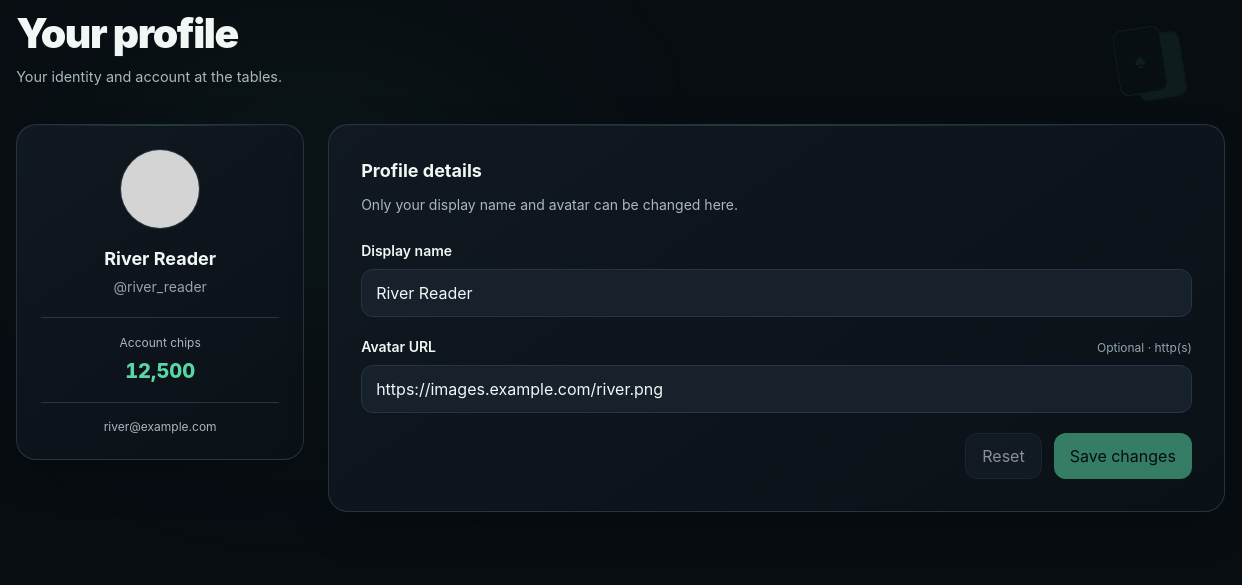
Scenario: ProfilePage › rejects invalid edits before sending a PATCH request
This screenshot has width=1242, height=585.
Replace the text in the field labelled "Display name" with "x" at (777, 294), box [361, 270, 1192, 318]
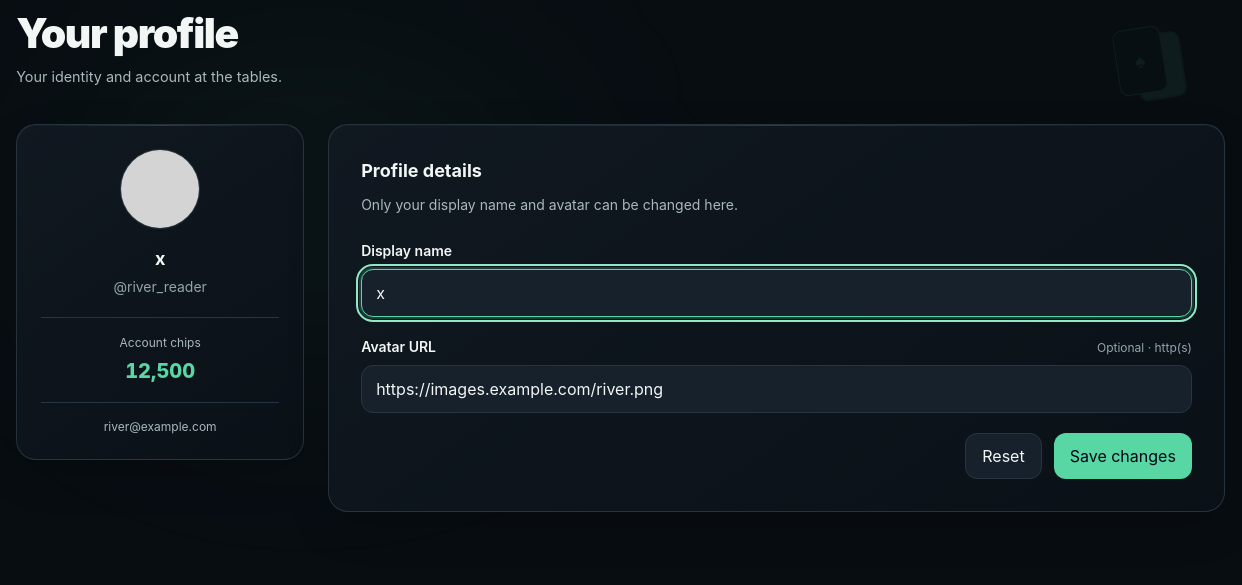
Clear the field labelled "Avatar URL" at (777, 390), box [361, 366, 1192, 414]
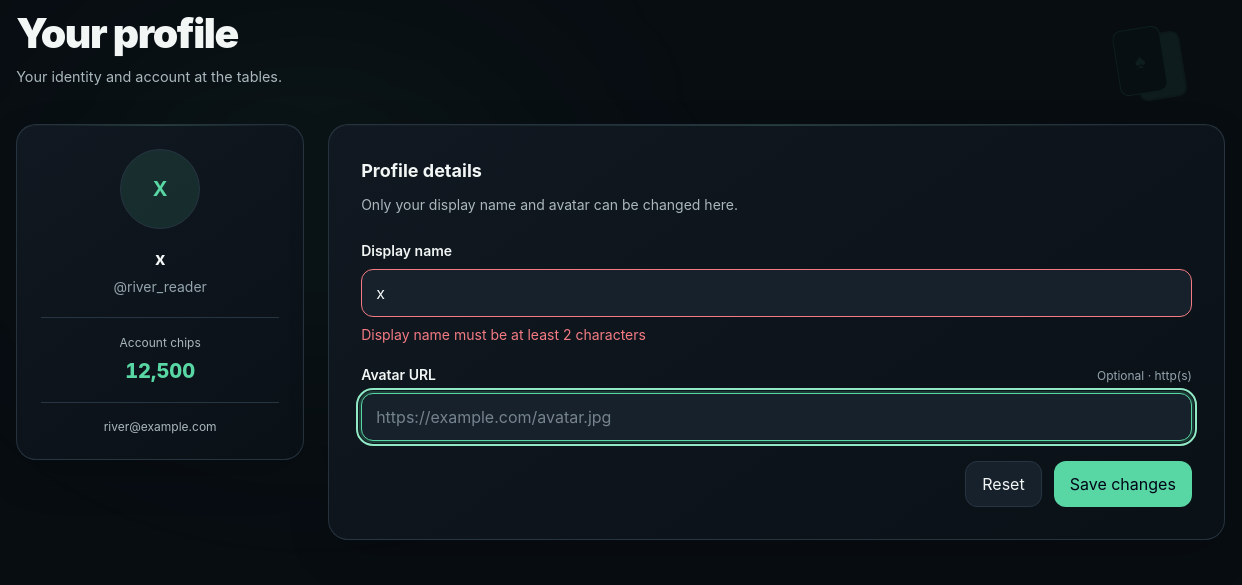
Type "javascript:alert(1)" into the field labelled "Avatar URL" at (777, 418), box [361, 394, 1192, 442]
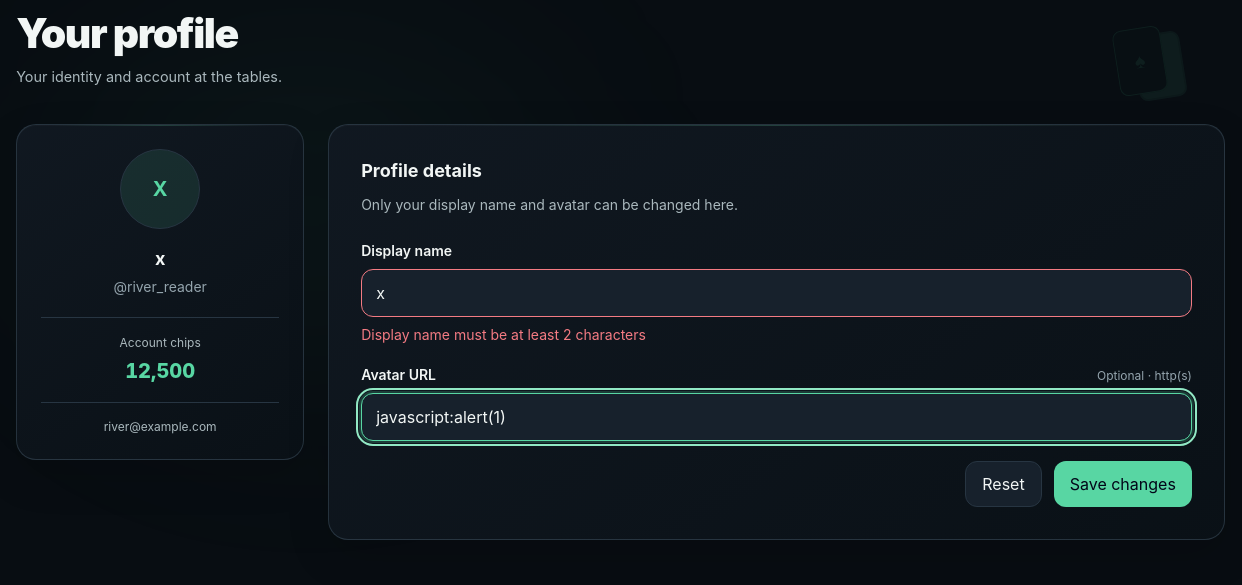
Click the button "Save changes" at (1123, 484), box [1054, 462, 1192, 508]
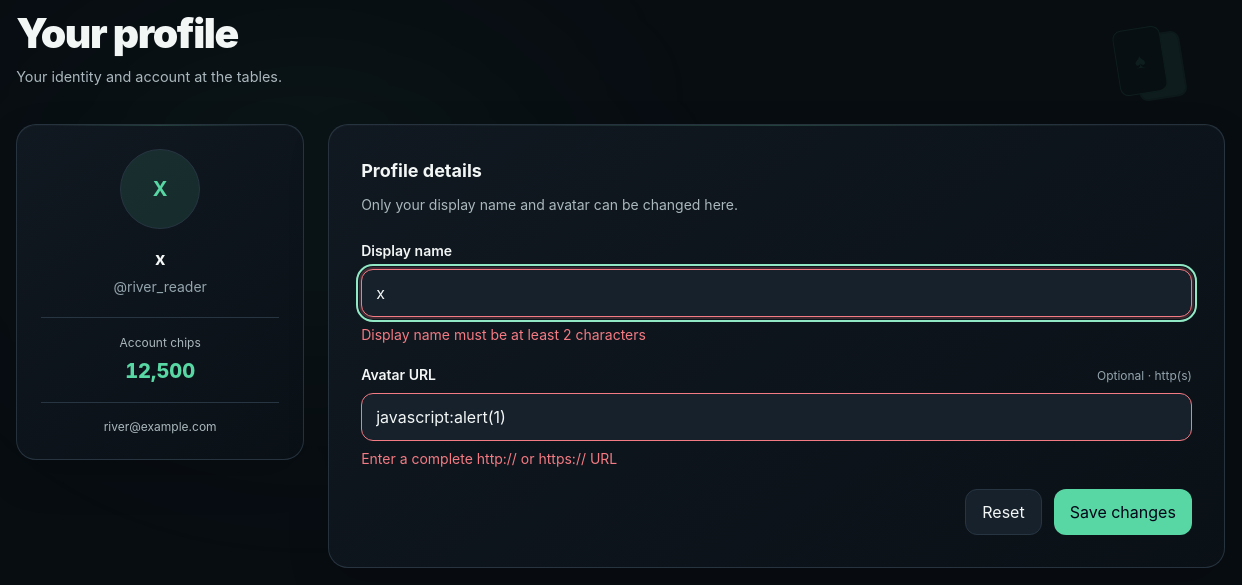
Result: the text "Display name must be at least 2 characters" is shown at [361, 326, 646, 344]
Result: the text "Enter a complete http:// or https:// URL" is shown at [361, 450, 617, 468]
